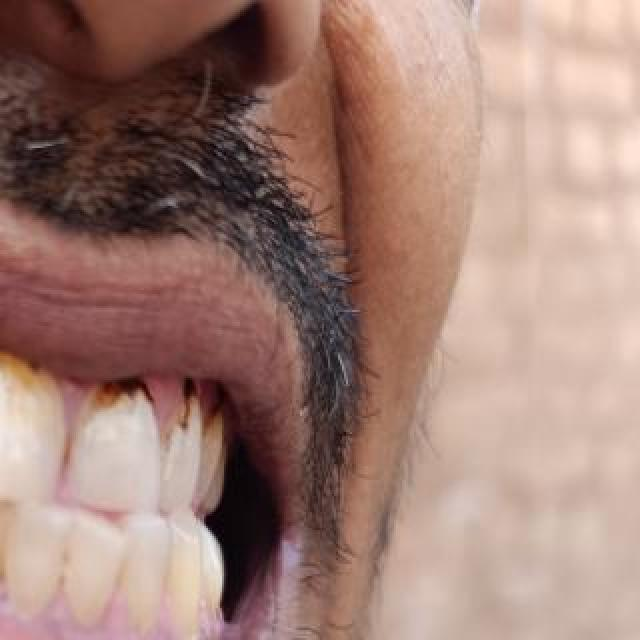maligned: (66, 504, 130, 616)
plaque: (38, 553, 78, 611)
spacing: (47, 421, 87, 509)
stains: (84, 358, 154, 428), (0, 326, 48, 414), (162, 367, 204, 467), (194, 379, 236, 461)
